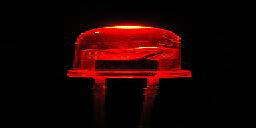LED: (61, 20, 194, 128)
